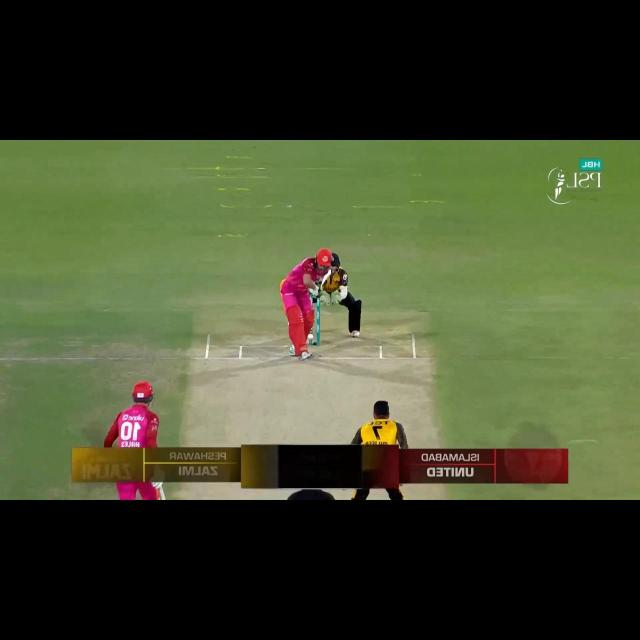bat: (320, 270, 331, 290)
toe: (326, 270, 333, 278)
